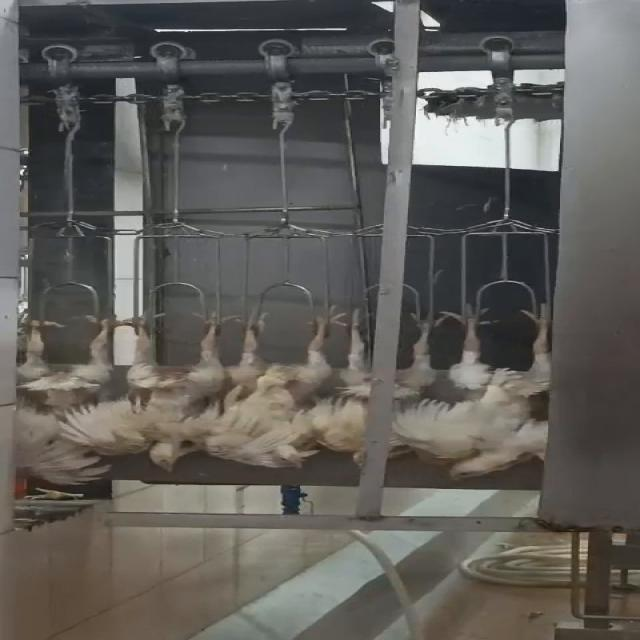chicken: (0, 309, 152, 492), (313, 302, 464, 468), (430, 296, 560, 484), (217, 302, 355, 468), (105, 307, 243, 472)
